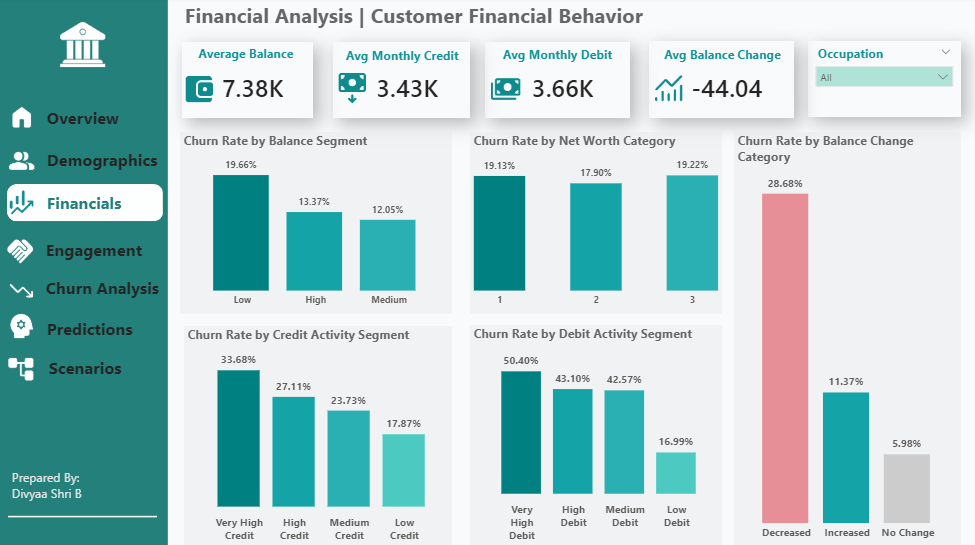

Layout of this report page (visuals, bound fields, positions):
{"tool":"powerbi","page":{"name":"Financials","canvas":[1280,720],"ordinal":2},"visuals":[{"type":"shape","box":[0,0,220.6,720.4],"z":0},{"type":"textbox","box":[57.3,139.1,147.3,37.6],"z":1000},{"type":"shape","box":[10.1,244.8,204.5,49],"z":2000},{"type":"textbox","box":[57.2,194.1,163.5,43.9],"z":3000},{"type":"textbox","box":[57.2,249.9,163.5,43.9],"z":4000},{"type":"textbox","box":[56.2,361.4,164.2,43.2],"z":5000},{"type":"textbox","box":[60.5,466.6,162.7,46.1],"z":6000},{"type":"textbox","box":[57.6,414.7,162.7,41.8],"z":7000},{"type":"cardVisual","fields":{"Data":["churn_prediction.Average Monthly Debit"]},"box":[636.7,58.9,189.9,99.8],"z":8000},{"type":"cardVisual","fields":{"Data":["Avg(churn_prediction.Balance Change)"]},"box":[851.2,57.3,189.9,101.5],"z":9000},{"type":"textbox","box":[237.9,0,672.6,50.5],"z":10000},{"type":"textbox","box":[636.5,59,190.1,36],"z":11000},{"type":"textbox","box":[863.6,59.4,166.1,35.9],"z":12000},{"type":"image","box":[851.8,94.8,49,47.5],"z":13000},{"type":"image","box":[10.1,410.4,37.4,41.8],"z":14000},{"type":"image","box":[8.6,465.1,38.9,44.6],"z":15000},{"type":"textbox","box":[12,612.8,196.7,59.8],"z":16000},{"type":"shape","box":[12,672.6,195.4,14.6],"z":17000},{"type":"image","box":[67.7,33.1,83.5,59],"z":18000},{"type":"image","box":[10.1,362.9,37.4,43.2],"z":19000},{"type":"image","box":[11.5,132.5,36,50.4],"z":20000},{"type":"image","box":[11.5,191.5,36,46.1],"z":21000},{"type":"image","box":[8.6,246.2,38.9,47.5],"z":22000},{"type":"image","box":[636.5,99.4,53.3,41.8],"z":23000},{"type":"cardVisual","fields":{"Data":["churn_prediction.Average Balance"]},"box":[239,58.9,171.9,99.8],"z":24000},{"type":"textbox","box":[237,57.2,172.8,40.3],"z":25000},{"type":"cardVisual","fields":{"Data":["churn_prediction.Average Monthly Credit"]},"box":[437,58.9,180.1,99.8],"z":26000},{"type":"textbox","box":[437,60.6,181.7,37.6],"z":27000},{"type":"image","box":[436.3,95,53.3,47.5],"z":28000},{"type":"image","box":[237.6,97.9,49,44.6],"z":29000},{"type":"slicer","title":"Occupation","fields":{"Values":["churn_prediction.occupation"]},"box":[1058.4,57.8,199.6,99.1],"z":30000},{"type":"clusteredColumnChart","fields":{"Category":["churn_prediction.balance_segment"],"Y":["churn_prediction.Churn Rate %"]},"box":[237.6,177.1,355.7,237.6],"z":31000},{"type":"clusteredColumnChart","fields":{"Category":["churn_prediction.Credit Activity Segment"],"Y":["churn_prediction.Churn Rate %"]},"box":[241.9,430.6,351.4,289.4],"z":32000},{"type":"columnChart","fields":{"Category":["churn_prediction.Balance Change Category"],"Y":["churn_prediction.Churn Rate %"]},"box":[961.9,177.1,296.6,542.9],"z":33000},{"type":"clusteredColumnChart","fields":{"Category":["churn_prediction.Debit Activity Segment"],"Y":["churn_prediction.Churn Rate %"]},"box":[616.3,429.1,329.8,290.9],"z":34000},{"type":"clusteredColumnChart","fields":{"Category":["churn_prediction.customer_nw_category"],"Y":["churn_prediction.Churn Rate %"]},"box":[616.3,177.1,329.8,237.6],"z":35000},{"type":"actionButton","box":[56.2,138.2,154.1,40.3],"z":36000},{"type":"actionButton","box":[56.2,195.8,154.1,40.3],"z":37000},{"type":"actionButton","box":[57.6,361.4,157,43.2],"z":38000},{"type":"actionButton","box":[57.6,416.2,154.1,40.3],"z":39000},{"type":"actionButton","box":[57.6,466.6,154.1,40.3],"z":40000},{"type":"textbox","box":[56,311,155.5,43.2],"z":41000},{"type":"image","box":[7.2,311,40.3,43.2],"z":42000},{"type":"actionButton","box":[57.6,311,146.9,40.3],"z":43000}]}

Visuals, with their boxes on the page's 1280x720 design canvas (x1, y1, x2, y2). These are canvas units, not pixel positions in the 975x545 screenshot, which may show the page scaled, cropped or inside an application window:
shape: {"left": 0, "top": 0, "right": 221, "bottom": 720}
textbox: {"left": 57, "top": 139, "right": 205, "bottom": 177}
shape: {"left": 10, "top": 245, "right": 215, "bottom": 294}
textbox: {"left": 57, "top": 194, "right": 221, "bottom": 238}
textbox: {"left": 57, "top": 250, "right": 221, "bottom": 294}
textbox: {"left": 56, "top": 361, "right": 220, "bottom": 405}
textbox: {"left": 60, "top": 467, "right": 223, "bottom": 513}
textbox: {"left": 58, "top": 415, "right": 220, "bottom": 456}
cardVisual - churn_prediction.Average Monthly Debit: {"left": 637, "top": 59, "right": 827, "bottom": 159}
cardVisual - Avg(churn_prediction.Balance Change): {"left": 851, "top": 57, "right": 1041, "bottom": 159}
textbox: {"left": 238, "top": 0, "right": 910, "bottom": 50}
textbox: {"left": 636, "top": 59, "right": 827, "bottom": 95}
textbox: {"left": 864, "top": 59, "right": 1030, "bottom": 95}
image: {"left": 852, "top": 95, "right": 901, "bottom": 142}
image: {"left": 10, "top": 410, "right": 48, "bottom": 452}
image: {"left": 9, "top": 465, "right": 48, "bottom": 510}
textbox: {"left": 12, "top": 613, "right": 209, "bottom": 673}
shape: {"left": 12, "top": 673, "right": 207, "bottom": 687}
image: {"left": 68, "top": 33, "right": 151, "bottom": 92}
image: {"left": 10, "top": 363, "right": 48, "bottom": 406}
image: {"left": 12, "top": 132, "right": 48, "bottom": 183}
image: {"left": 12, "top": 192, "right": 48, "bottom": 238}
image: {"left": 9, "top": 246, "right": 48, "bottom": 294}
image: {"left": 636, "top": 99, "right": 690, "bottom": 141}
cardVisual - churn_prediction.Average Balance: {"left": 239, "top": 59, "right": 411, "bottom": 159}
textbox: {"left": 237, "top": 57, "right": 410, "bottom": 98}
cardVisual - churn_prediction.Average Monthly Credit: {"left": 437, "top": 59, "right": 617, "bottom": 159}
textbox: {"left": 437, "top": 61, "right": 619, "bottom": 98}
image: {"left": 436, "top": 95, "right": 490, "bottom": 142}
image: {"left": 238, "top": 98, "right": 287, "bottom": 142}
"Occupation" slicer: {"left": 1058, "top": 58, "right": 1258, "bottom": 157}
clusteredColumnChart - churn_prediction.balance_segment x churn_prediction.Churn Rate %: {"left": 238, "top": 177, "right": 593, "bottom": 415}
clusteredColumnChart - churn_prediction.Credit Activity Segment x churn_prediction.Churn Rate %: {"left": 242, "top": 431, "right": 593, "bottom": 720}
columnChart - churn_prediction.Balance Change Category x churn_prediction.Churn Rate %: {"left": 962, "top": 177, "right": 1258, "bottom": 720}
clusteredColumnChart - churn_prediction.Debit Activity Segment x churn_prediction.Churn Rate %: {"left": 616, "top": 429, "right": 946, "bottom": 720}
clusteredColumnChart - churn_prediction.customer_nw_category x churn_prediction.Churn Rate %: {"left": 616, "top": 177, "right": 946, "bottom": 415}
actionButton: {"left": 56, "top": 138, "right": 210, "bottom": 178}
actionButton: {"left": 56, "top": 196, "right": 210, "bottom": 236}
actionButton: {"left": 58, "top": 361, "right": 215, "bottom": 405}
actionButton: {"left": 58, "top": 416, "right": 212, "bottom": 456}
actionButton: {"left": 58, "top": 467, "right": 212, "bottom": 507}
textbox: {"left": 56, "top": 311, "right": 212, "bottom": 354}
image: {"left": 7, "top": 311, "right": 48, "bottom": 354}
actionButton: {"left": 58, "top": 311, "right": 204, "bottom": 351}
